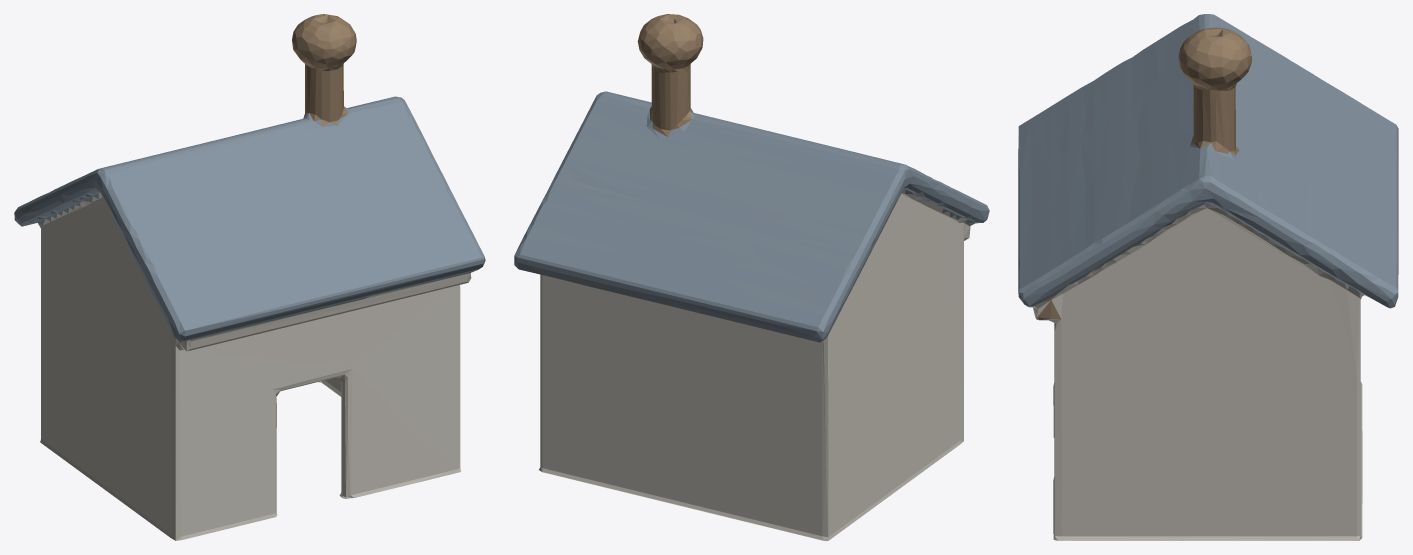
3 renders of one model, left to right at view 1: azimuth 30°, elevation 25°; view 2: azimuth 150°, elevation 25°; view 3: azimuth 270°, elevation 25°, orthographic. The views are drawn at different scales.
Visible parts, largest first — view 1: geometry_0; view 2: geometry_0; view 3: geometry_0.
Part boxes in pixels (x1,y1,x2,y2): geometry_0: [14, 14, 485, 540]; geometry_0: [514, 14, 989, 540]; geometry_0: [1018, 14, 1398, 540].
Size of the model in its own units: 0.7171 by 0.9253 by 0.6772.
